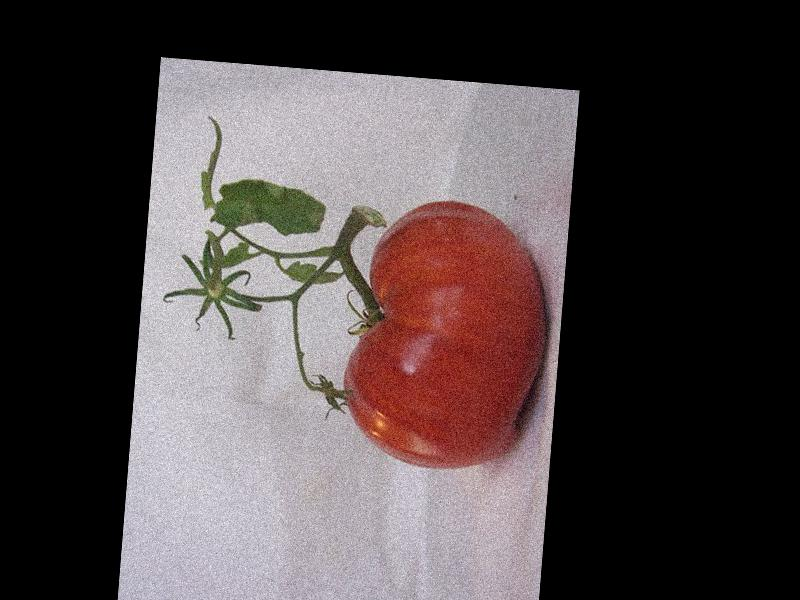Tomato: (338, 192, 557, 477)
